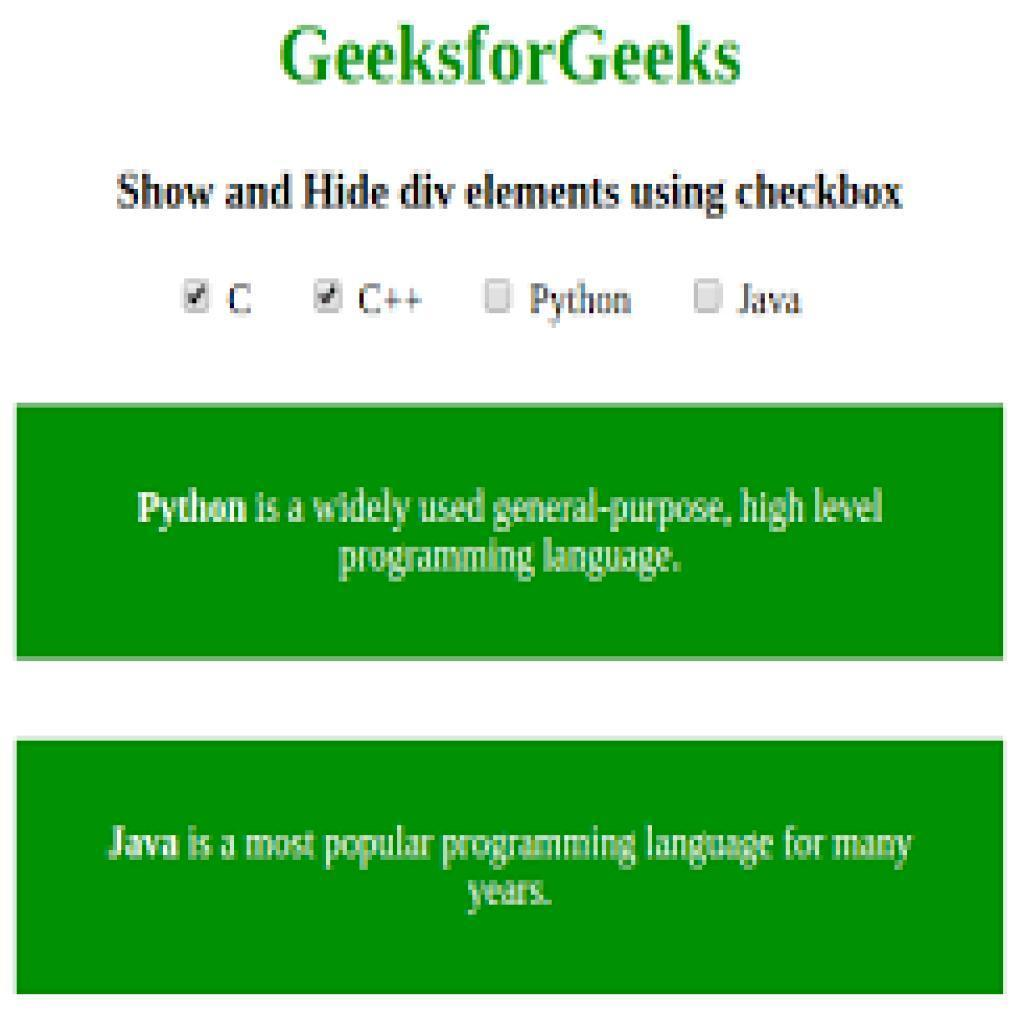checkbox: (482, 275, 516, 321), (692, 278, 729, 319), (311, 277, 344, 320), (181, 276, 213, 319)
